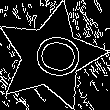O_W: (20, 30, 81, 84)
